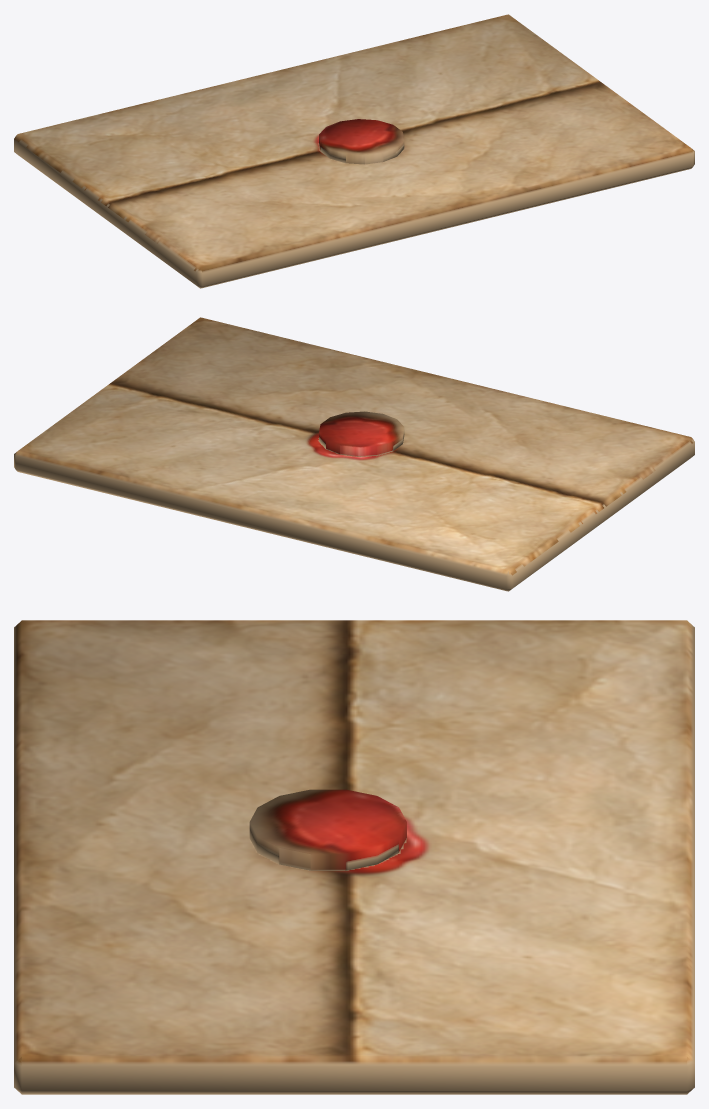
The model's file is item_mm9_10247.glb.
The picture shows the model from 3 angles, top to bottom: view 1: azimuth 30°, elevation 25°; view 2: azimuth 150°, elevation 25°; view 3: azimuth 270°, elevation 25°; orthographic projection. The views are drawn at different scales.
Parts seen in each view (by area): view 1: d10247; view 2: d10247; view 3: d10247.
Part boxes in pixels (x1,y1,x2,y2): d10247: (14,14,694,288); d10247: (14,317,694,591); d10247: (14,620,694,1094).
Bounding box in the file's own units: 62.1 × 3.57 × 40.37.
1 material, 1 textured.
